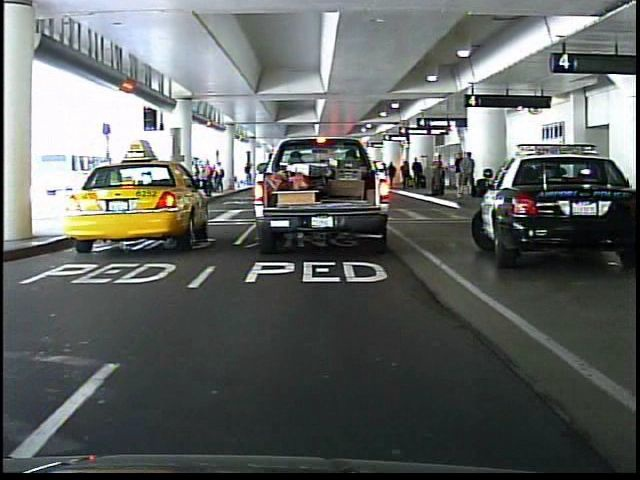person: (254, 149, 282, 221), (318, 144, 343, 206), (243, 160, 256, 189)
